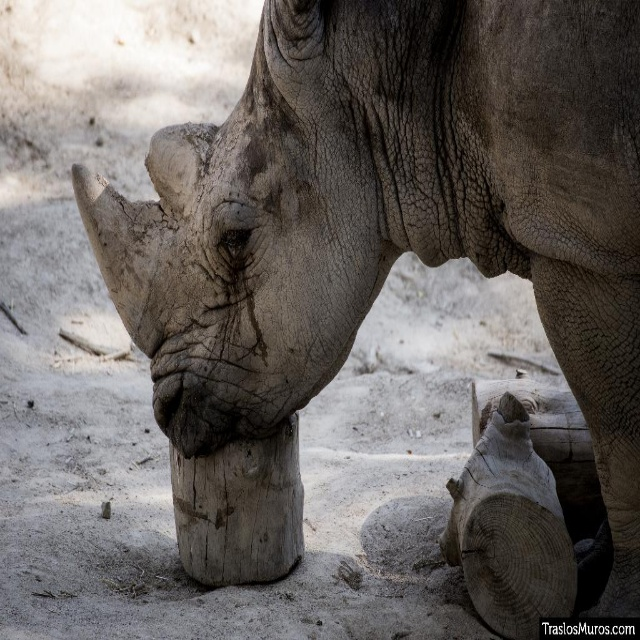Rhinoceros: (70, 0, 640, 639)
